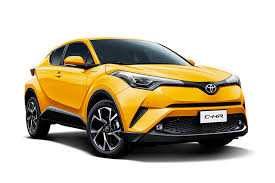Toyota: (29, 41, 244, 144)
